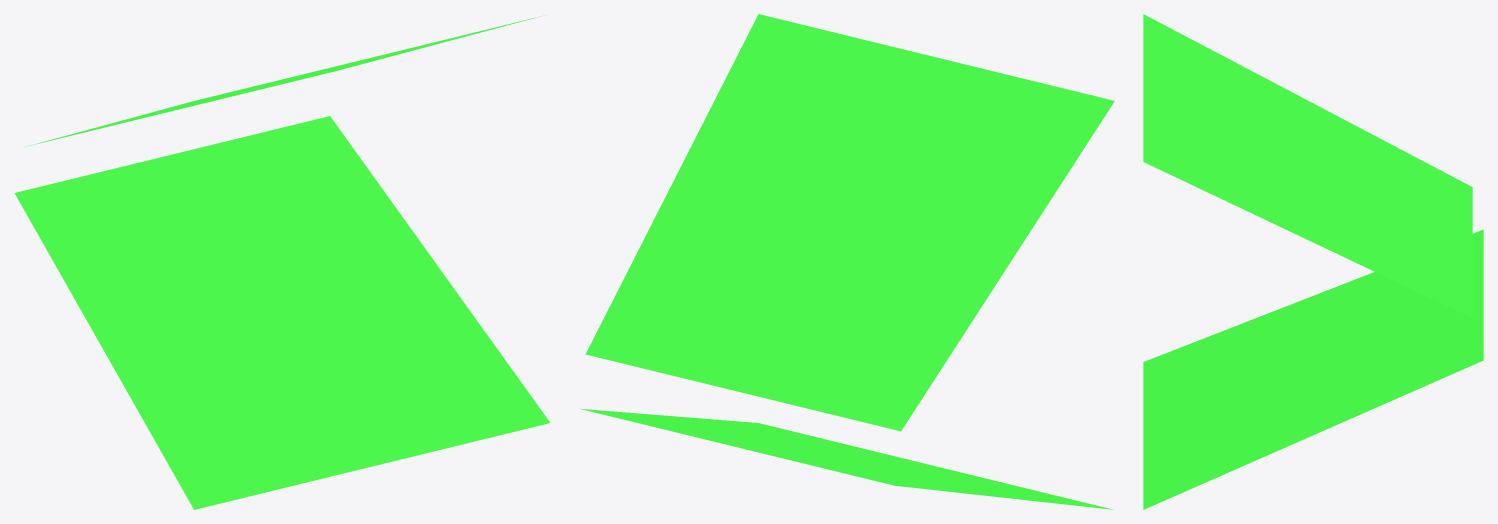
The model's file is Holograma_Shader.gltf.
3 renders of one model, left to right at view 1: azimuth 30°, elevation 25°; view 2: azimuth 150°, elevation 25°; view 3: azimuth 270°, elevation 25°, orthographic. The views are drawn at different scales.
Parts seen in each view (by area): view 1: Hologram_Shader; view 2: Hologram_Shader; view 3: Hologram_Shader.
Part boxes in pixels (x1,y1,x2,y2): Hologram_Shader: (14, 15, 550, 509); Hologram_Shader: (579, 14, 1114, 509); Hologram_Shader: (1143, 14, 1483, 509).
Bounding box in the file's own units: 2 × 2.19 × 1.94.
